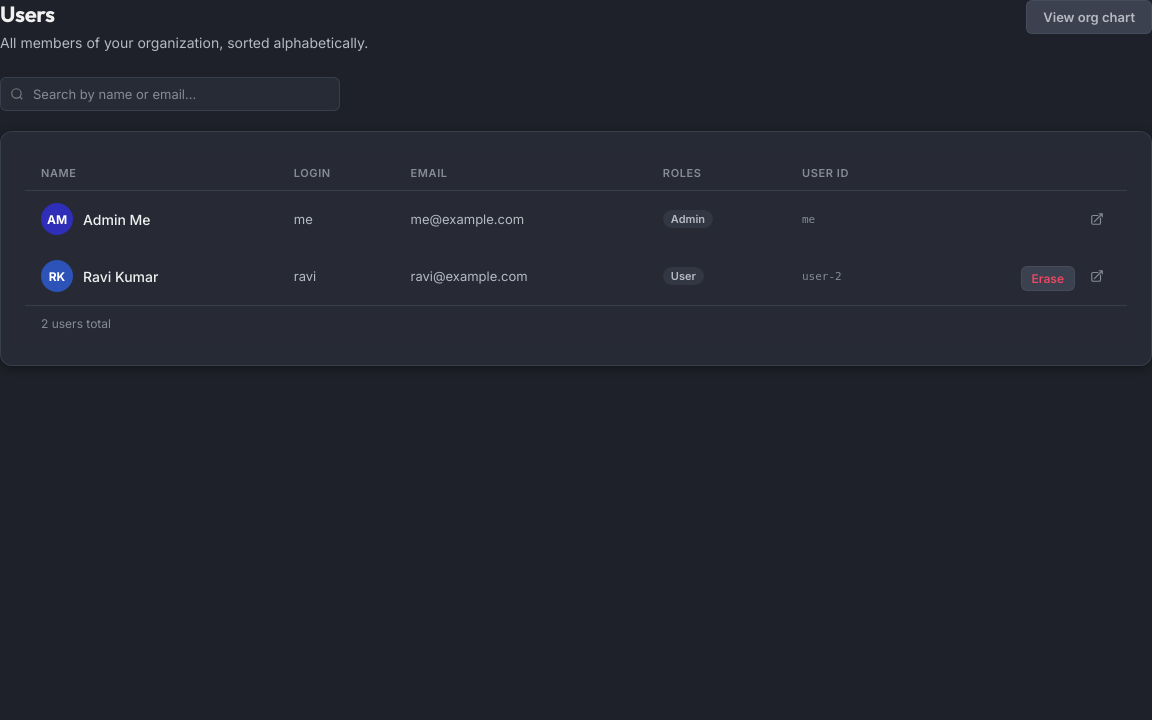
Test: UsersPage — erase a user (#728) › erases nothing when the admin cancels
Step 1. Click the button with aria-label "Erase Ravi Kumar" → (1048, 278), box [1020,266,1075,290]
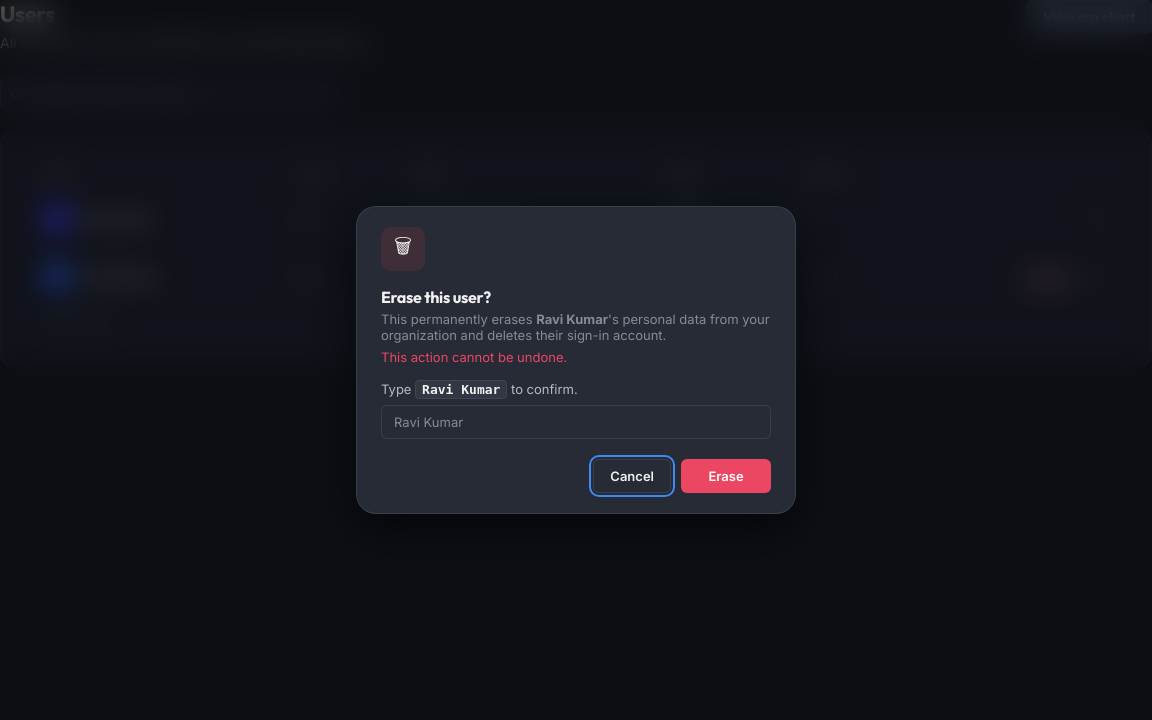
Check: the dialog is shown, box [356,206,796,514]
Step 2. Click the button "Cancel" → (632, 476), box [593,459,671,493]
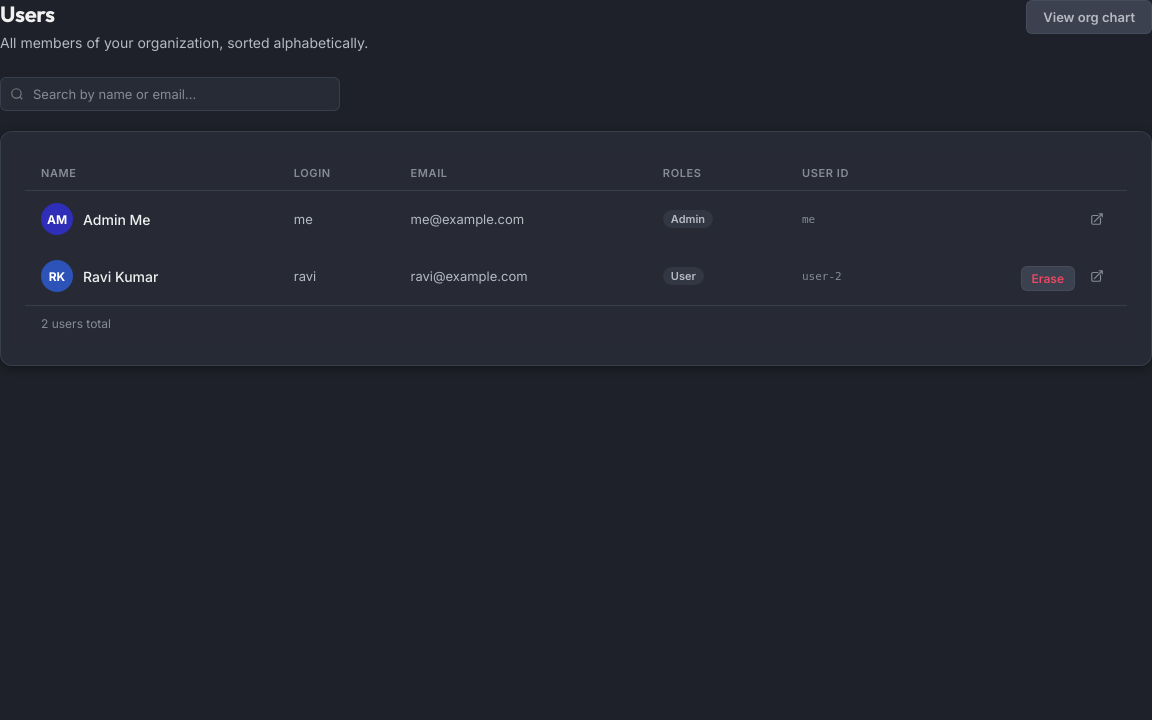
Check: the dialog is gone
